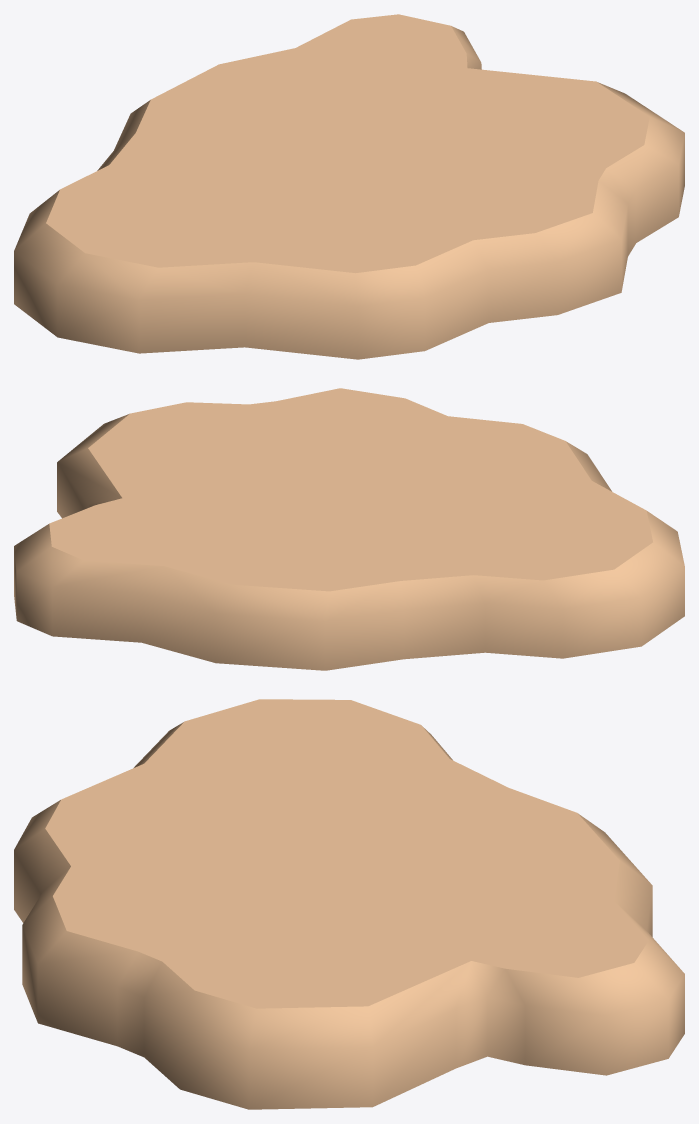
The picture shows the model from 3 angles, top to bottom: view 1: azimuth 30°, elevation 25°; view 2: azimuth 150°, elevation 25°; view 3: azimuth 270°, elevation 25°; orthographic projection. The views are drawn at different scales.
Visible parts, largest first — view 1: patch-sand.003; view 2: patch-sand.003; view 3: patch-sand.003.
Part boxes in pixels (box(x1,y1,x2,y2)): patch-sand.003: box(14, 14, 684, 359); patch-sand.003: box(14, 388, 684, 670); patch-sand.003: box(14, 699, 684, 1109).
Size of the model in its own units: 25.5 by 2.89 by 21.03.
